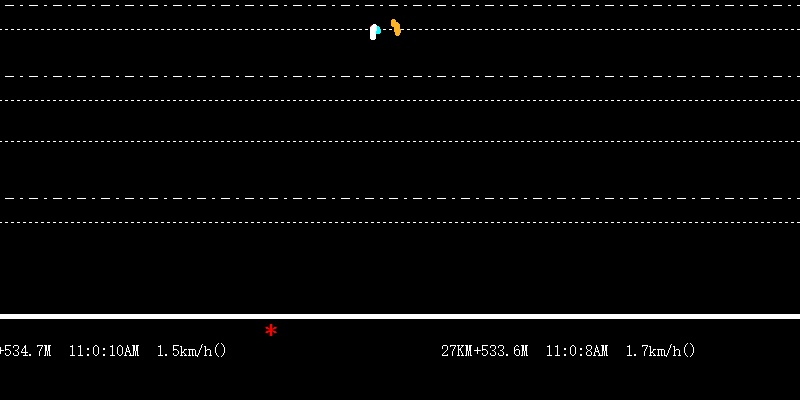face_1: (388, 17, 401, 39)
face_s: (367, 19, 381, 39)
star: (265, 323, 278, 336)
